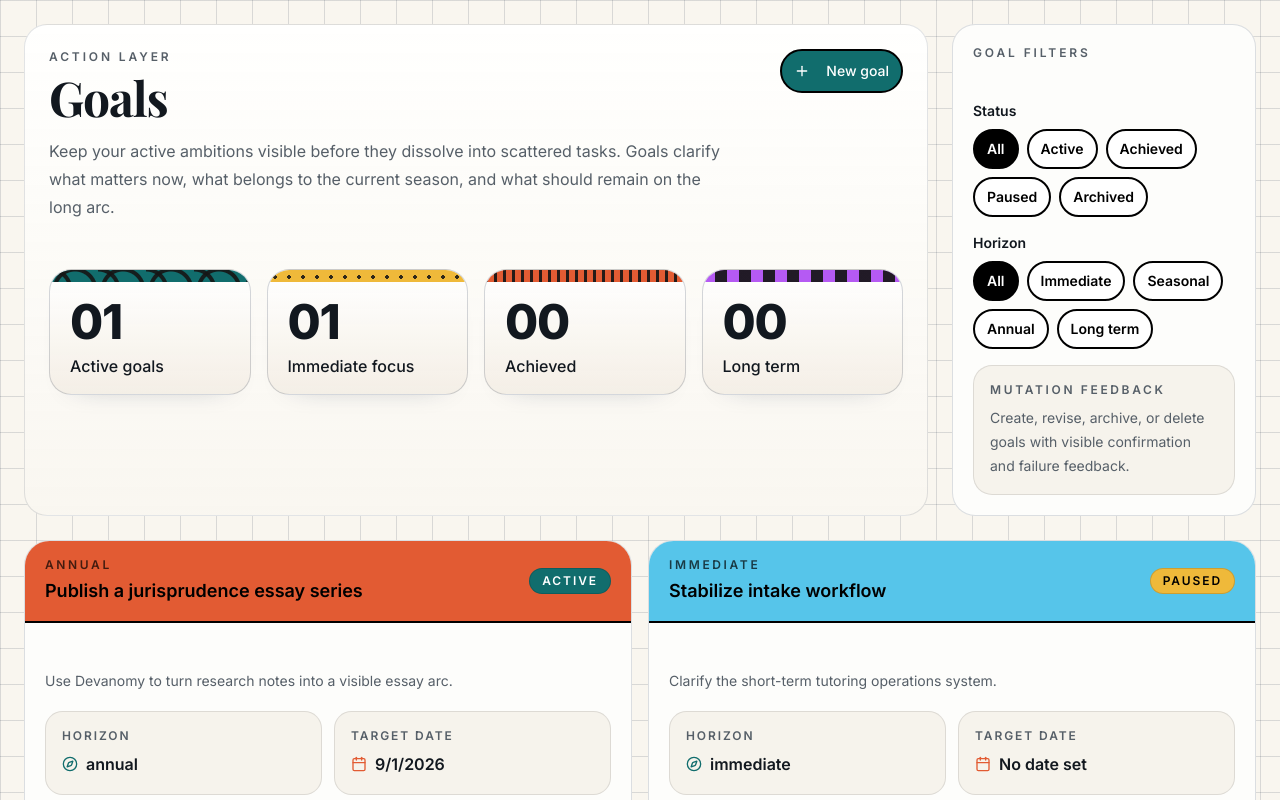
Test: Goals page › renders the goal list and applies status filters
The image size is (1280, 800).
Expected: the text "Publish a jurisprudence essay series" is shown, 45,577 -> 363,605
Expected: the text "Stabilize intake workflow" is shown, 669,577 -> 886,605
Click the button "Active": (1062, 149) 1026,129 -> 1098,169
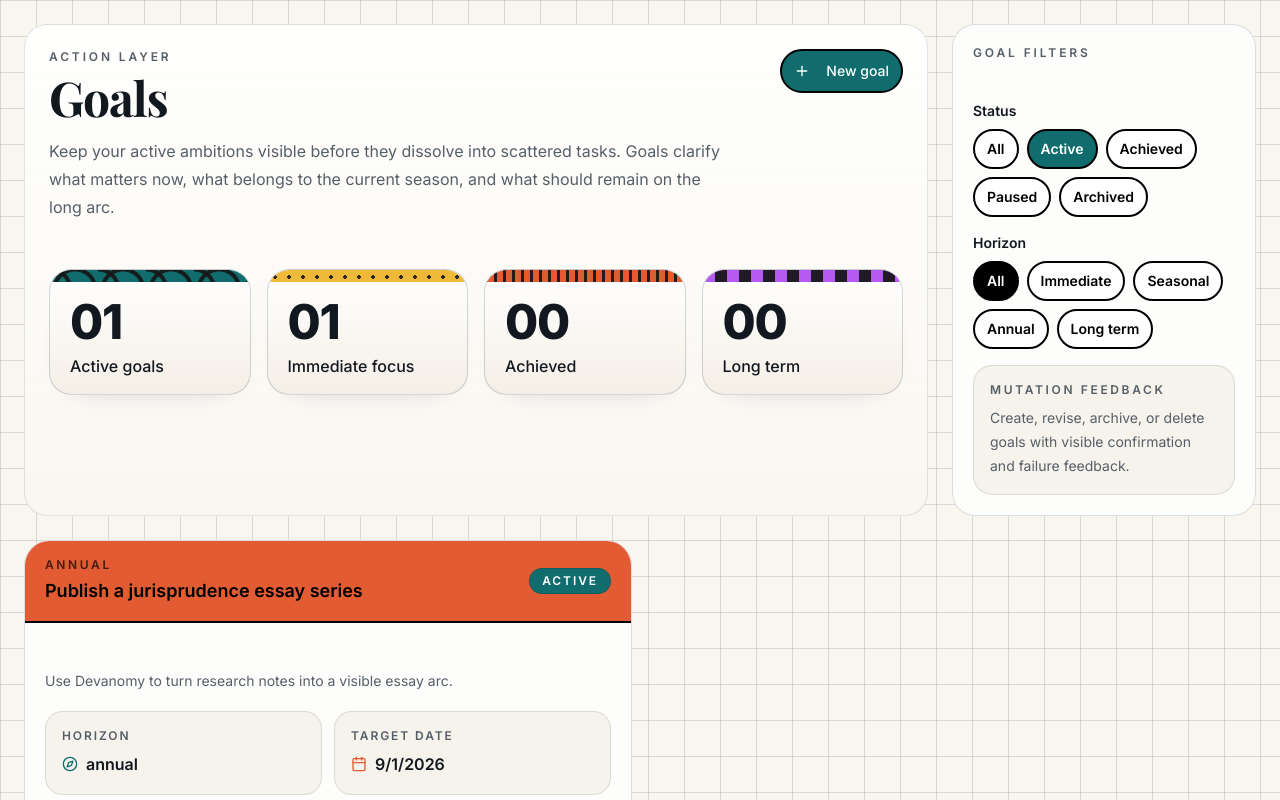
Expected: the text "Publish a jurisprudence essay series" is shown, 45,577 -> 363,605
Expected: the text "Stabilize intake workflow" is gone
